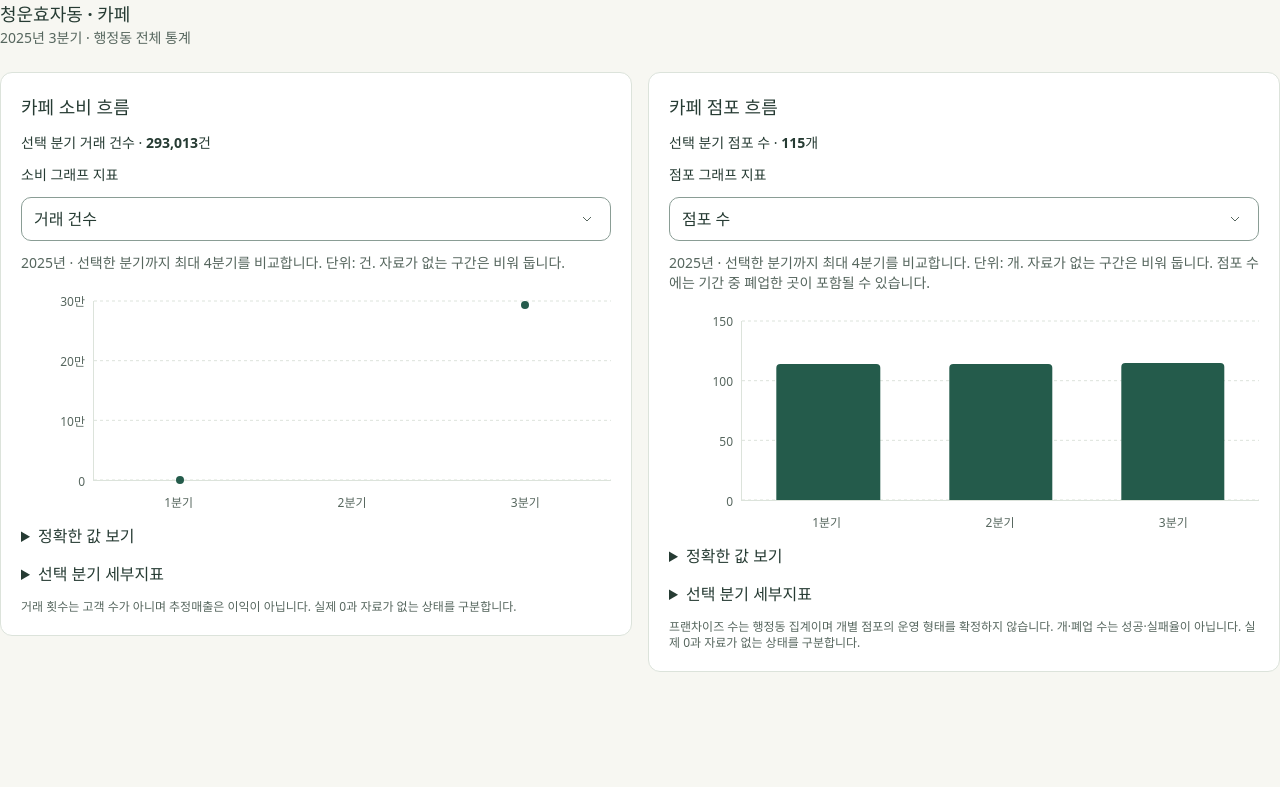
Test case: does not draw through missing data or include later quarters, and keeps a real zero
The width and height of the screenshot is (1280, 787).
Step 1. Click the heading "정확한 값 보기" below "10만" → (86, 536), box [38, 525, 134, 547]
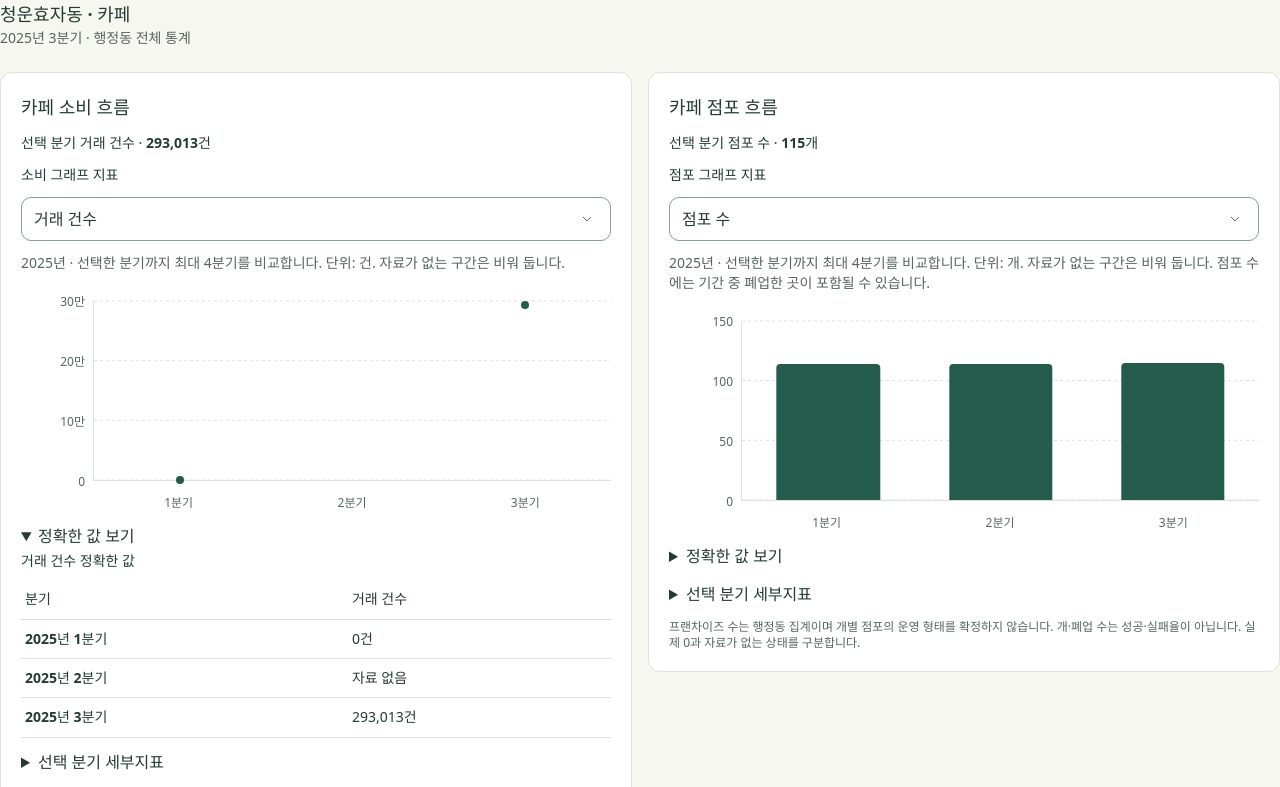
Expected: the table "거래 건수 정확한 값" does not show "2025년 4분기", [21, 550, 611, 738]
Expected: the table "거래 건수 정확한 값" shows "0건", [352, 629, 373, 648]
Expected: the table "거래 건수 정확한 값" shows "자료 없음", [352, 668, 407, 687]
